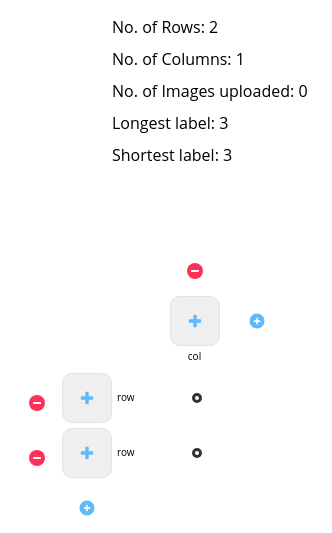
Test: RadioMatrix › remove row
The width and height of the screenshot is (332, 533).
Click the button with test id "delete-row2" at x=37, y=403, box [12,378,62,428]
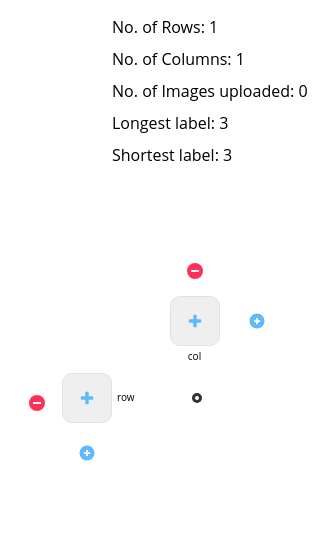
Result: the text "No. of Rows: 1" is shown at [112,16,218,38]
